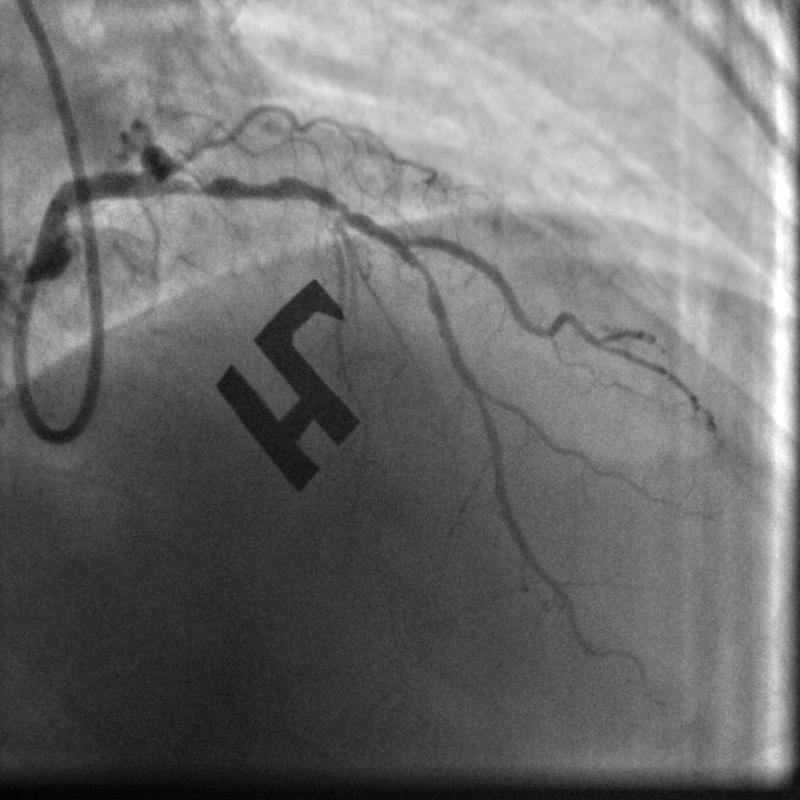Stenosis: (180, 168, 288, 200)
